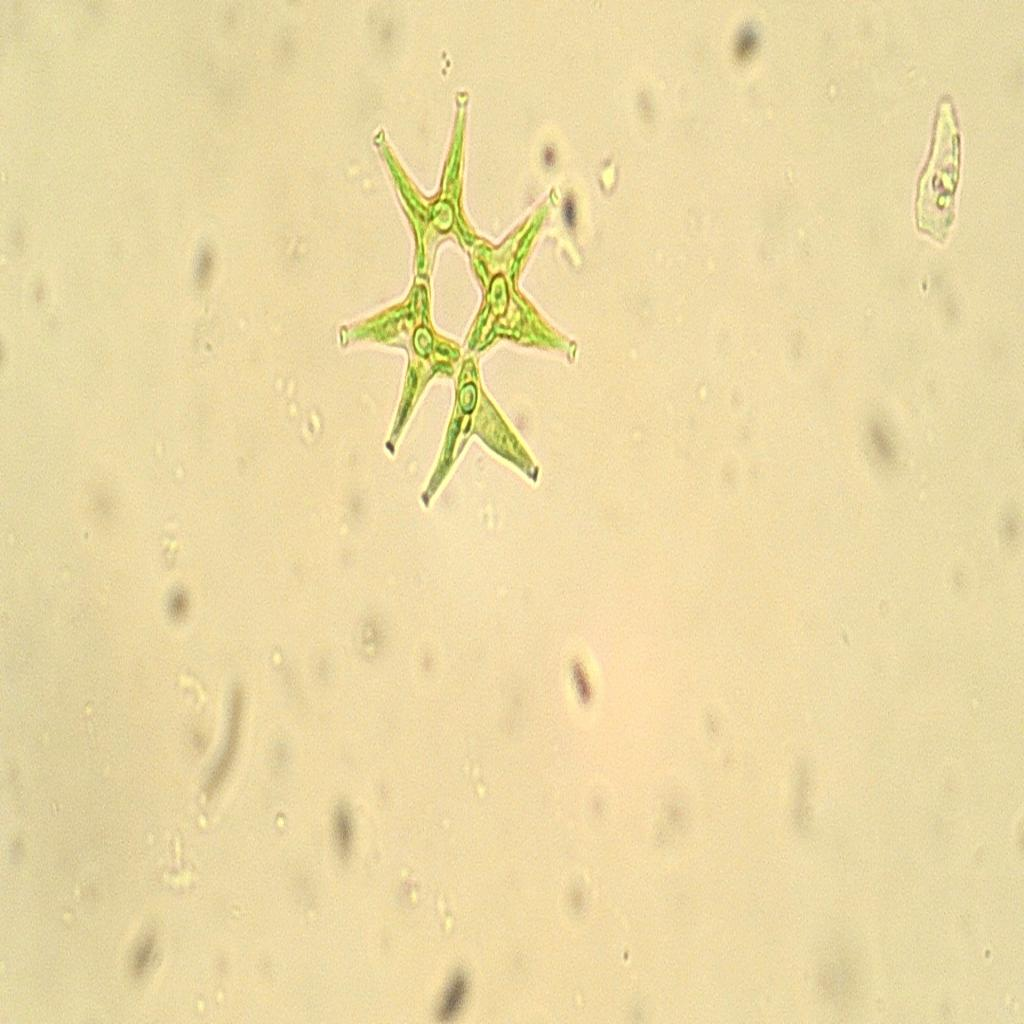Pediastrum_CT: (320, 81, 584, 520)
